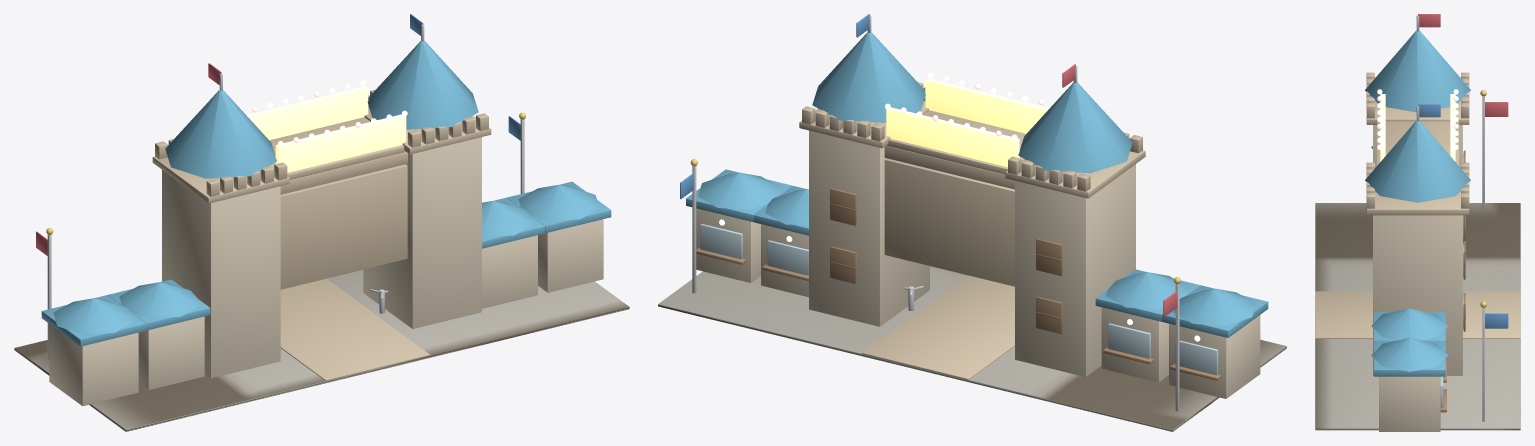
The model's file is th32_parkeingang.glb.
3 views of the same model, side by side, from view 1: azimuth 30°, elevation 25°; view 2: azimuth 150°, elevation 25°; view 3: azimuth 270°, elevation 25° (orthographic). The views are drawn at different scales.
Visible parts, largest first — view 1: Cube.002, Cube, Cube.024, Cube.063, Cube.001, Cone, Cone.001, Cube.069, Cube.065, Cube.077, Cube.061, Cube.062 (+13 smaller); view 2: Cube, Cube.002, Cube.024, Cube.064, Cube.001, Cone, Cone.001, Cube.069, Cube.062, Cube.061, Cube.065, Cube.077 (+23 smaller); view 3: Cube, Cube.024, Cube.001, Cone.001, Cone, Cube.077, Cone.005, Cone.004, Cube.025, Cube.060, Cube.003, Cube.078 (+10 smaller).
Part boxes in pixels (<box>): Cube.002: <box>162,170,280,378</box>; Cube: <box>14,270,629,431</box>; Cube.024: <box>363,137,481,328</box>; Cube.063: <box>280,164,407,289</box>; Cube.001: <box>280,278,429,380</box>; Cone: <box>165,90,276,178</box>; Cone.001: <box>367,41,478,129</box>; Cube.069: <box>49,324,138,406</box>; Cube.065: <box>138,316,204,390</box>; Cube.077: <box>538,219,603,292</box>; Cube.061: <box>275,114,406,172</box>; Cube.062: <box>246,86,368,140</box>; Cube: <box>658,266,1286,431</box>; Cube.002: <box>1015,164,1135,376</box>; Cube.024: <box>809,130,929,326</box>; Cube.064: <box>884,158,1014,286</box>; Cube.001: <box>862,275,1014,379</box>; Cone: <box>1018,82,1132,173</box>; Cone.001: <box>812,32,925,122</box>; Cube.069: <box>1169,315,1260,398</box>; Cube.062: <box>886,107,1019,167</box>; Cube.061: <box>925,78,1049,133</box>; Cube.065: <box>1101,307,1168,382</box>; Cube.077: <box>696,208,760,282</box>; Cube: <box>1315,203,1520,430</box>; Cube.024: <box>1373,215,1462,375</box>; Cube.001: <box>1315,291,1520,338</box>; Cone.001: <box>1365,120,1470,202</box>; Cone: <box>1365,30,1470,112</box>; Cube.077: <box>1379,376,1440,431</box>; Cone.005: <box>1371,338,1448,371</box>; Cone.004: <box>1371,308,1447,339</box>; Cube.025: <box>1366,191,1469,215</box>; Cube.060: <box>1377,121,1458,165</box>; Cube.003: <box>1366,101,1469,124</box>; Cube.078: <box>1374,340,1445,376</box>.
Bounding box in the file's own units: 27.78 × 13.92 × 10.
14 materials, 1 textured.
